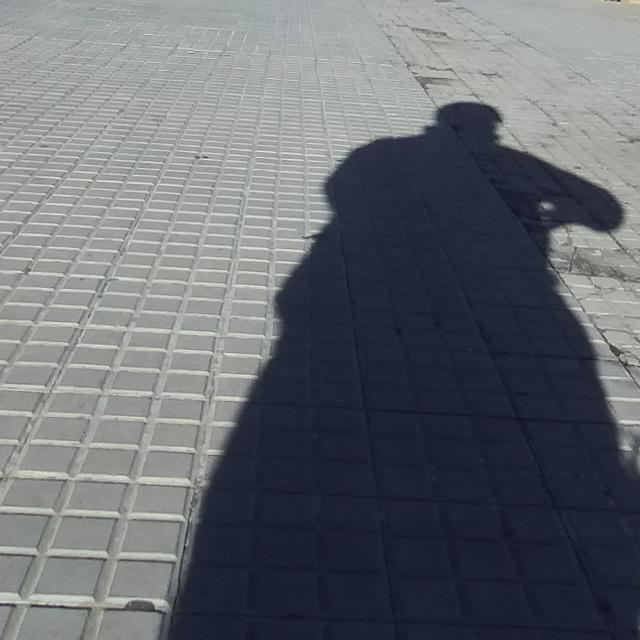calcada_quebrada: (566, 241, 594, 275)
